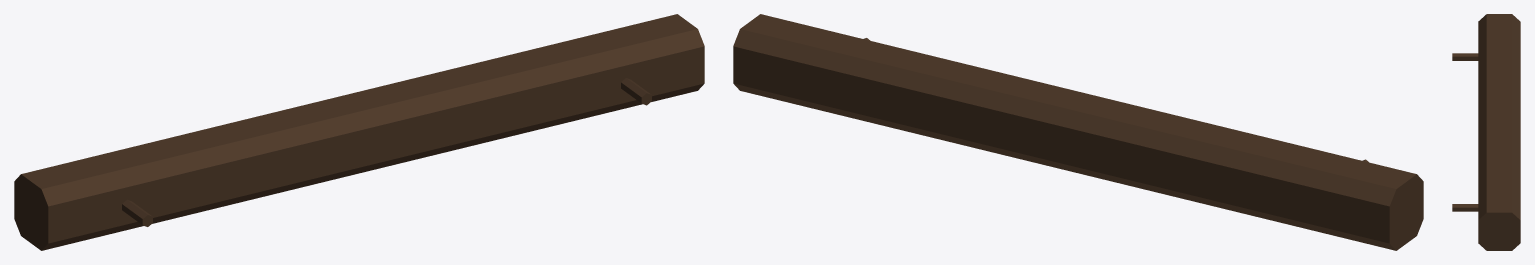
The model's file is mdvl_village_beam_01.glb.
The picture shows the model from 3 angles, left to right: view 1: azimuth 30°, elevation 25°; view 2: azimuth 150°, elevation 25°; view 3: azimuth 270°, elevation 25°; orthographic projection. The views are drawn at different scales.
Parts seen in each view (by area): view 1: mdvl_village_beam_01; view 2: mdvl_village_beam_01; view 3: mdvl_village_beam_01.
Boxes of the visible parts, <box> form: mdvl_village_beam_01: <box>14,14,704,250</box>; mdvl_village_beam_01: <box>733,14,1423,250</box>; mdvl_village_beam_01: <box>1452,14,1520,250</box>.
Bounding box in the file's own units: 2 × 0.18 × 0.29.
1 material, 1 textured.
